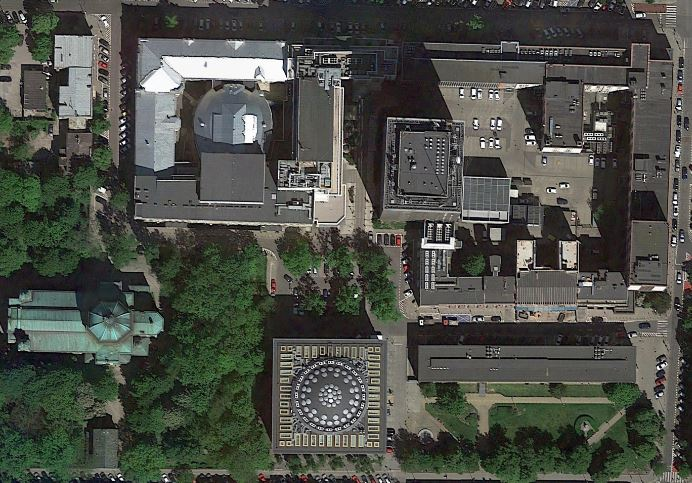block of flats: (394, 31, 671, 320), (125, 33, 358, 231), (371, 103, 474, 231), (406, 339, 644, 385)
church: (1, 271, 176, 373)
shopping_center: (262, 327, 398, 463)
